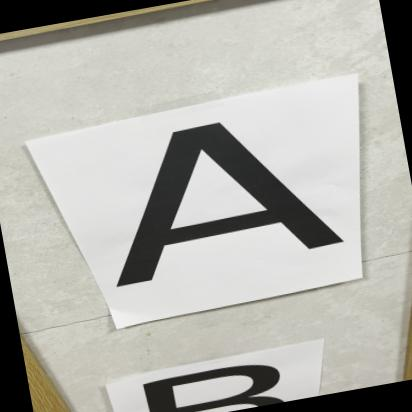seat: (73, 97, 348, 297)
